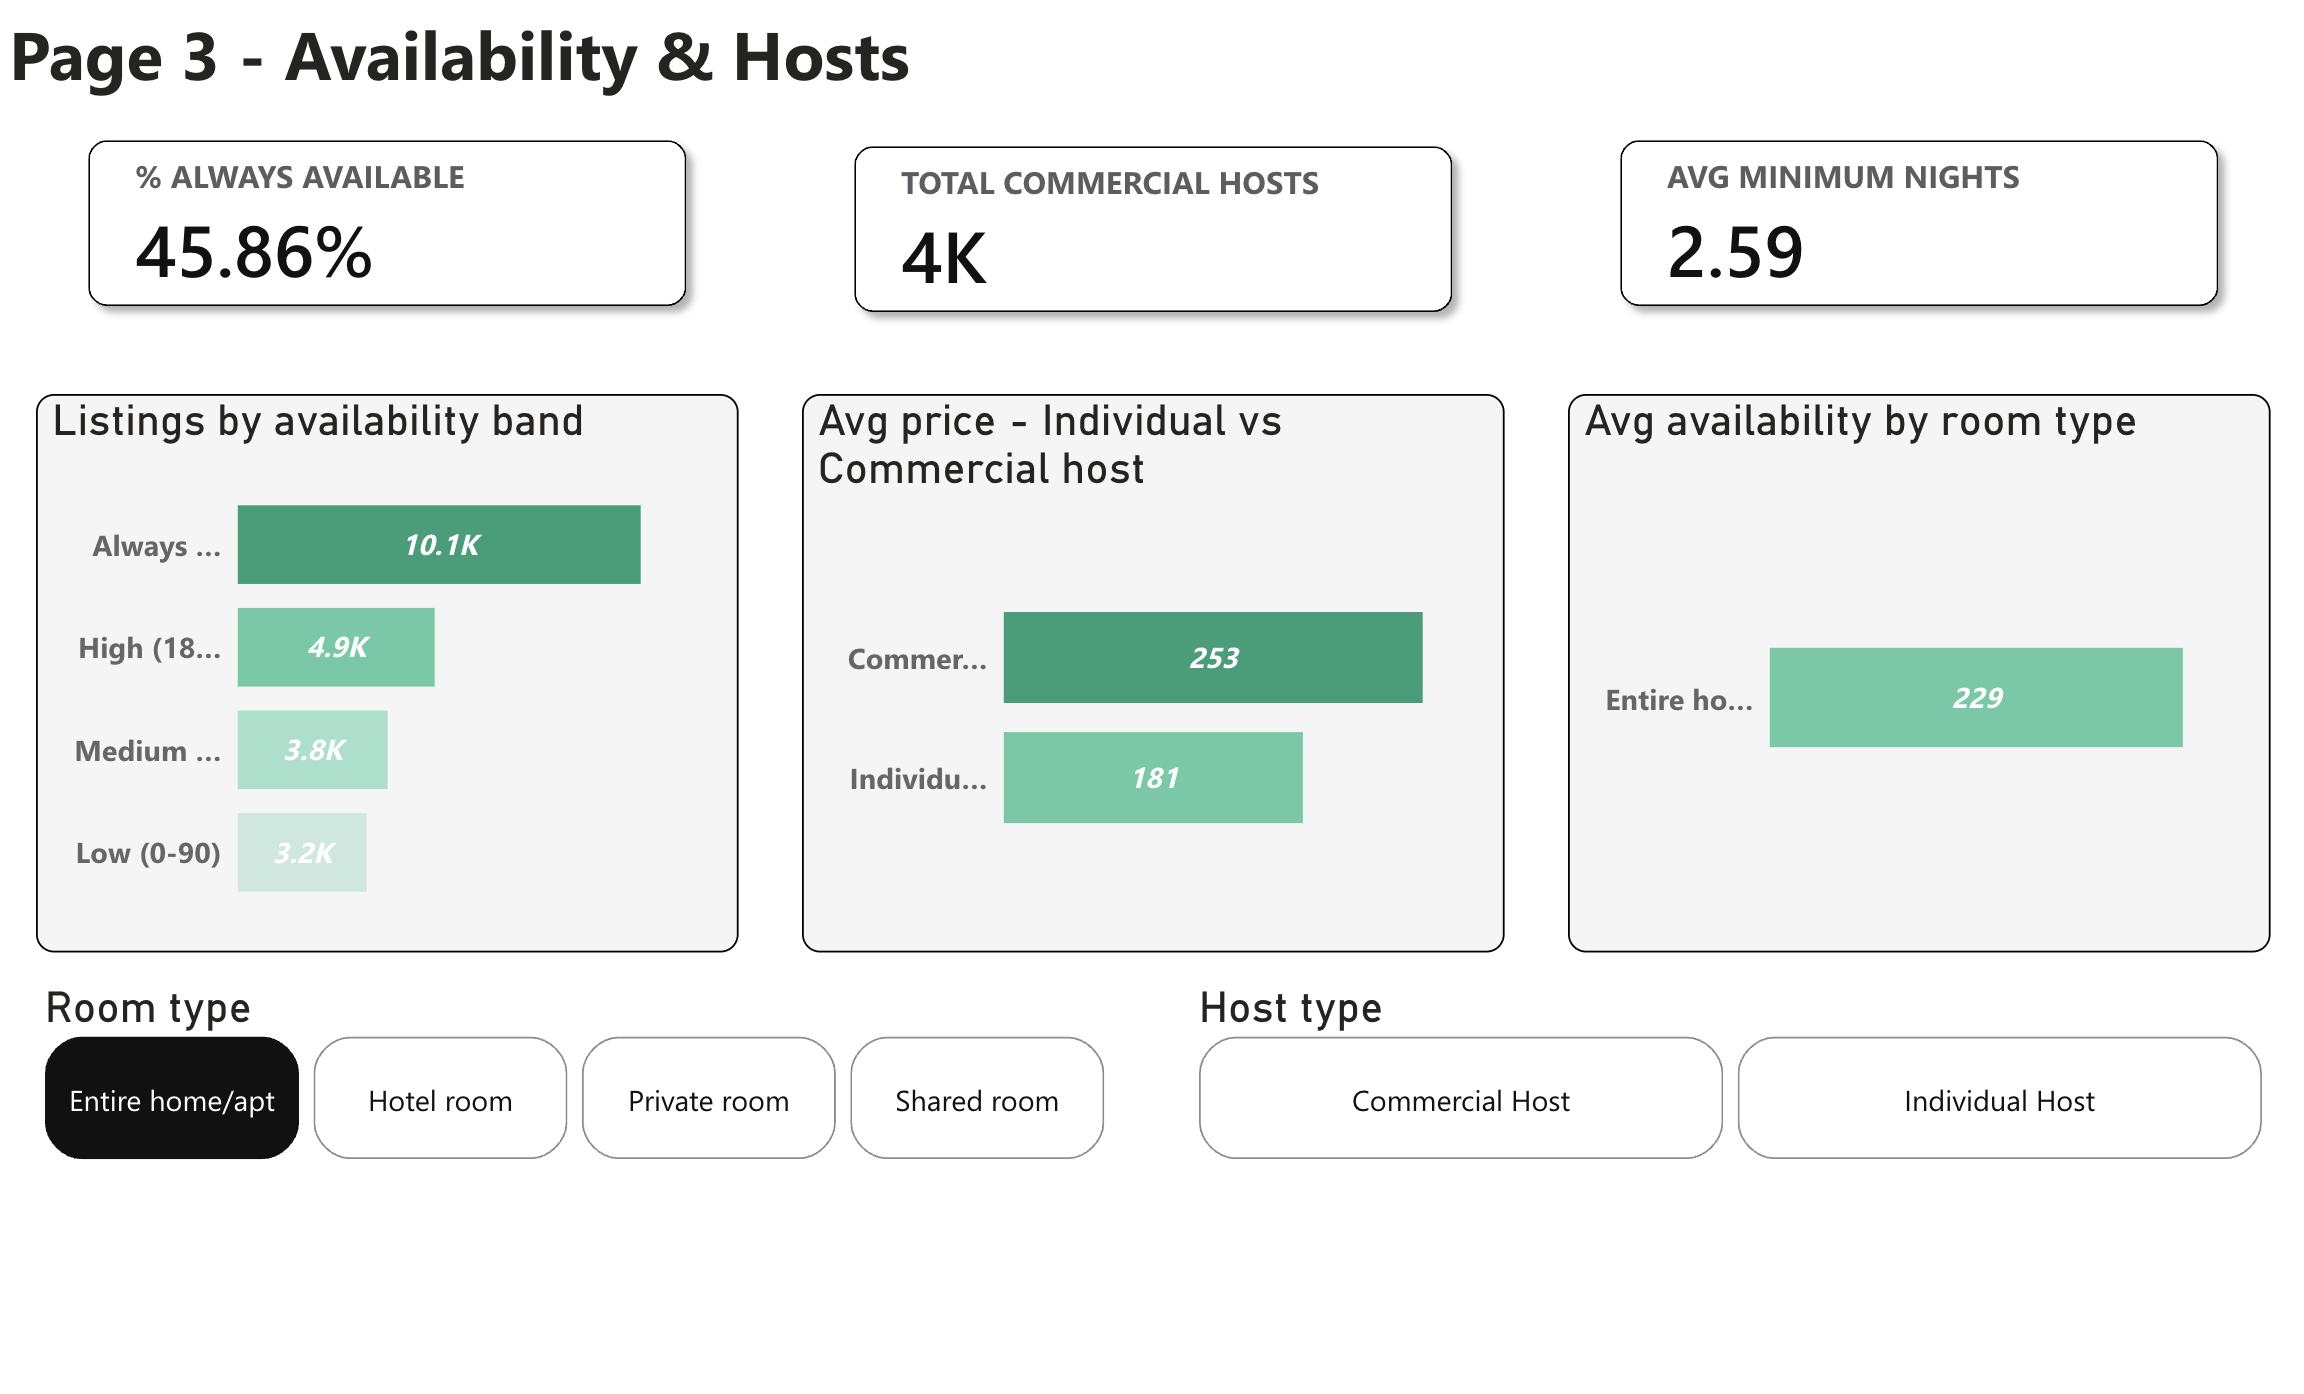

The page's visual inventory and layout, read from the dashboard file:
{"tool":"powerbi","page":{"name":"Availability & Hosts","canvas":[1280,720],"ordinal":2},"visuals":[{"type":"cardVisual","fields":{"Data":["AllMeasures.% Always Available"]},"box":[20,50,390,150],"z":0},{"type":"textbox","box":[0,0,1280,68.3],"z":1000},{"type":"cardVisual","fields":{"Data":["AllMeasures.Total Commercial Hosts"]},"box":[445,53,390,150],"z":2000},{"type":"cardVisual","fields":{"Data":["AllMeasures.Avg Minimum Nights"]},"box":[870,50,390,150],"z":3000},{"type":"barChart","title":"Listings by availability band","fields":{"Category":["airbnb_data.availability_band"],"Y":["AllMeasures.Total Listings"]},"box":[20,220,390,310],"z":4000},{"type":"barChart","title":"Avg price - Individual vs Commercial host","fields":{"Y":["AllMeasures.Avg Price"],"Category":["airbnb_data.host_type"]},"box":[445,220,390,310],"z":5000},{"type":"barChart","title":"Avg availability by room type","fields":{"Y":["AllMeasures.Avg availability"],"Category":["airbnb_data.room_type"]},"box":[870,220,390,310],"z":6000},{"type":"advancedSlicerVisual","fields":{"Values":["airbnb_data.room_type"]},"box":[20,550,600,100],"z":7000},{"type":"advancedSlicerVisual","fields":{"Values":["airbnb_data.host_type"]},"box":[660,550,600,100],"z":8000}]}

Visuals, with their boxes on the page's 1280x720 design canvas (x1, y1, x2, y2). These are canvas units, not pixel positions in the 2304x1394 screenshot, which may show the page scaled, cropped or inside an application window:
cardVisual - AllMeasures.% Always Available: x1=20 y1=50 x2=410 y2=200
textbox: x1=0 y1=0 x2=1280 y2=68
cardVisual - AllMeasures.Total Commercial Hosts: x1=445 y1=53 x2=835 y2=203
cardVisual - AllMeasures.Avg Minimum Nights: x1=870 y1=50 x2=1260 y2=200
"Listings by availability band" barChart: x1=20 y1=220 x2=410 y2=530
"Avg price - Individual vs Commercial host" barChart: x1=445 y1=220 x2=835 y2=530
"Avg availability by room type" barChart: x1=870 y1=220 x2=1260 y2=530
advancedSlicerVisual - airbnb_data.room_type: x1=20 y1=550 x2=620 y2=650
advancedSlicerVisual - airbnb_data.host_type: x1=660 y1=550 x2=1260 y2=650
